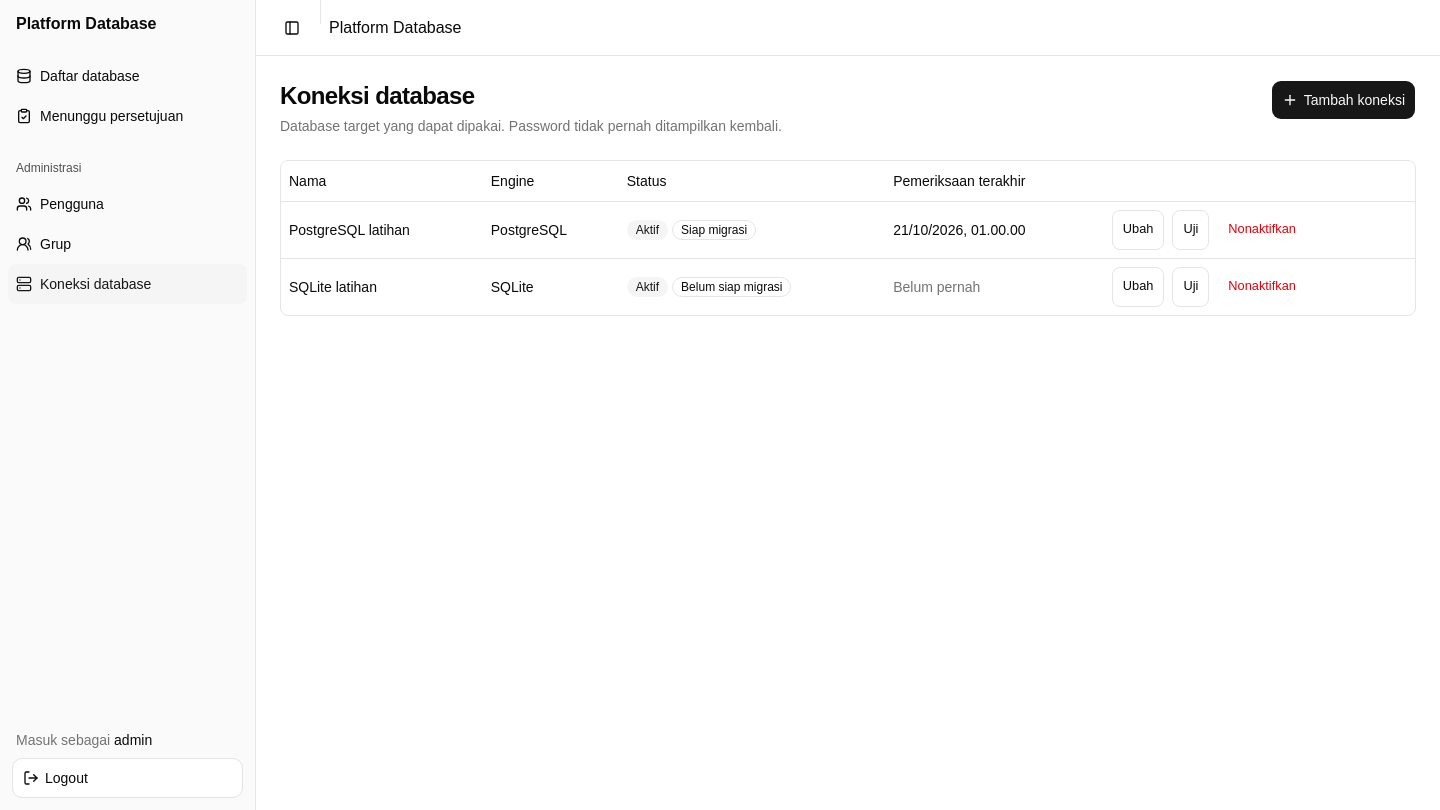
Test: connections admin › lists registrations without secrets and tests one
Expected: the text "PostgreSQL latihan" is shown, [289,222,410,238]
Click the button "Uji" in the row of "PostgreSQL latihan" at (1191,230), box [1172,210,1209,250]
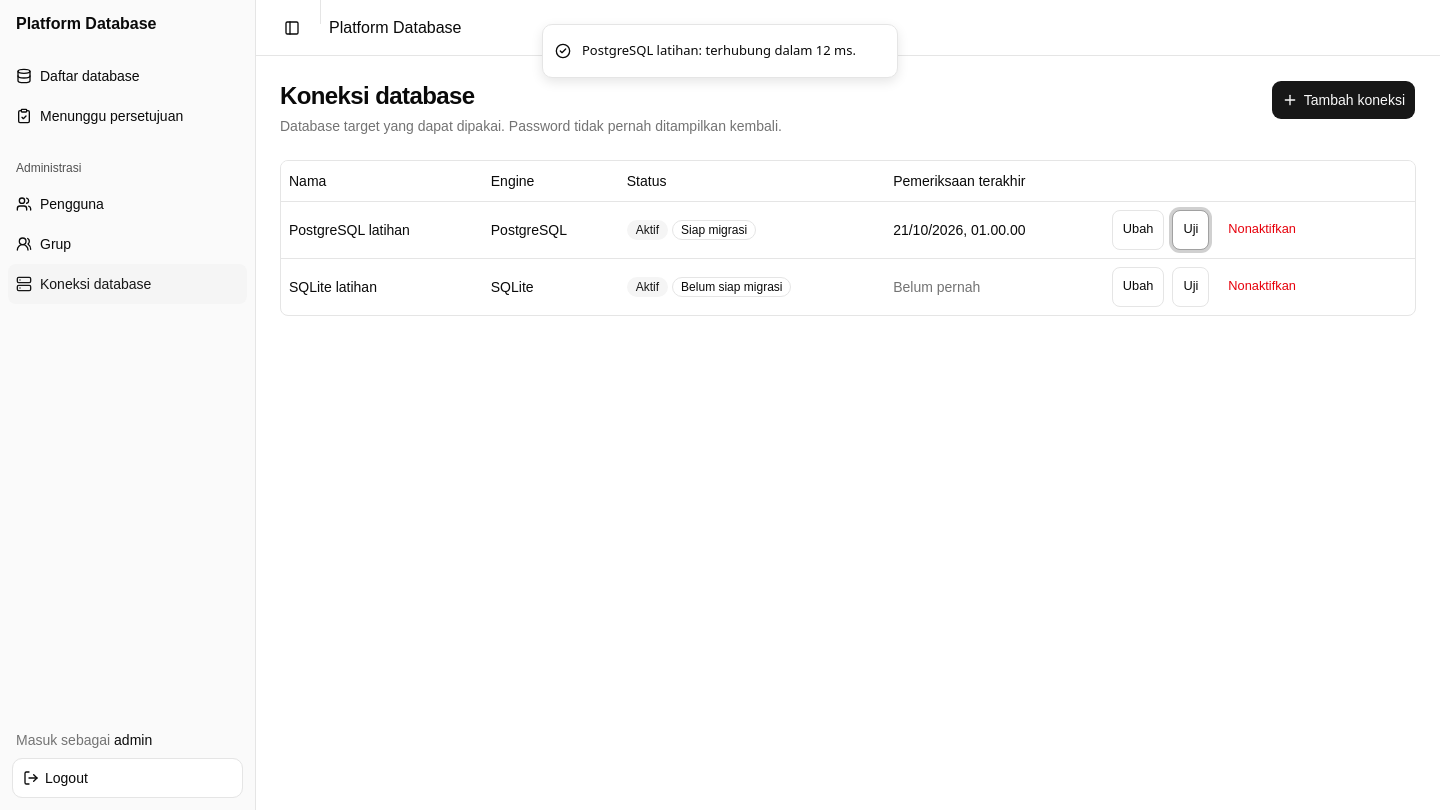
Now the text "PostgreSQL latihan: terhubung dalam 12 ms." is shown, box [582,41,856,60]
